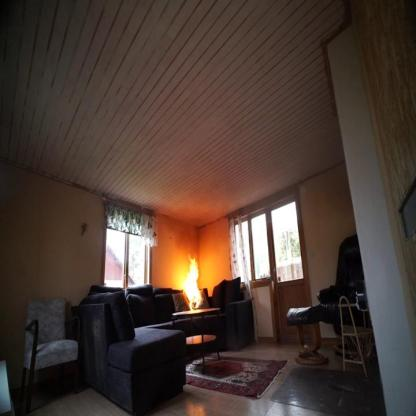fire: (180, 254, 205, 312)
